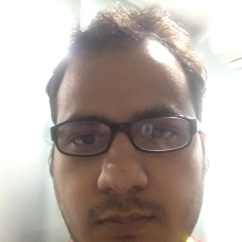glasses: (47, 118, 200, 154)
